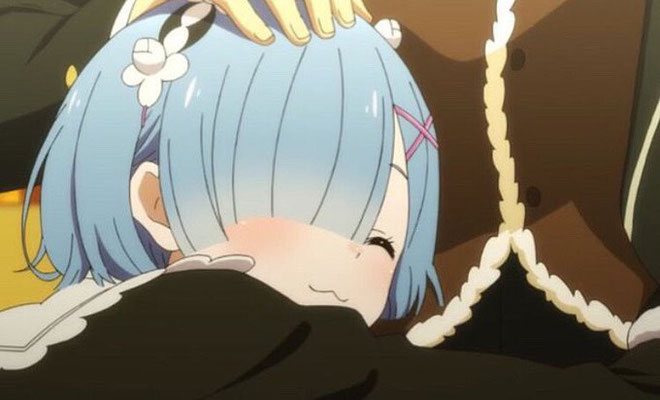rem: (24, 2, 438, 400)
